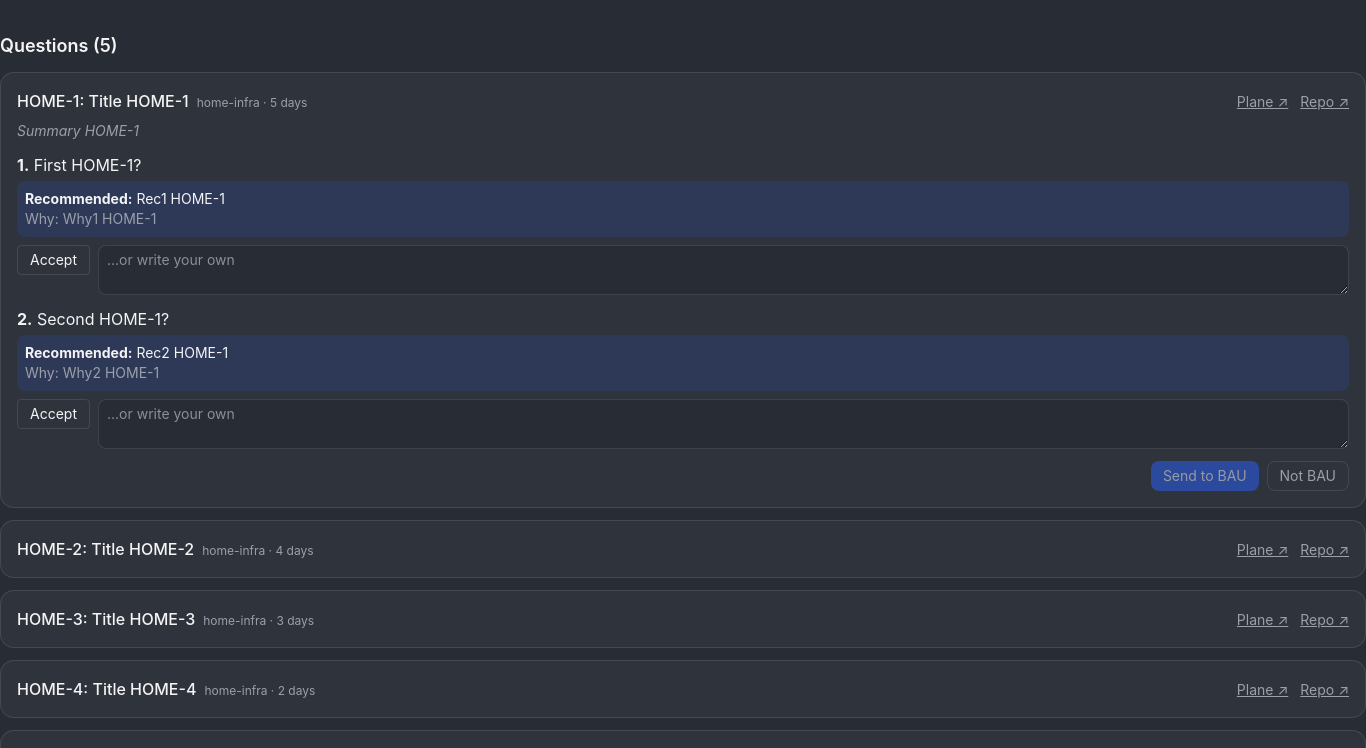
Test case: Questions › send removes the card and opens the next
Expected: the text "First HOME-2?" is not shown
What coordinates should you click on to do the following:
click the button "Accept" below "Why1 HOME-1"
I would click on:
 (54, 260)
Its box is [17,245,90,275].
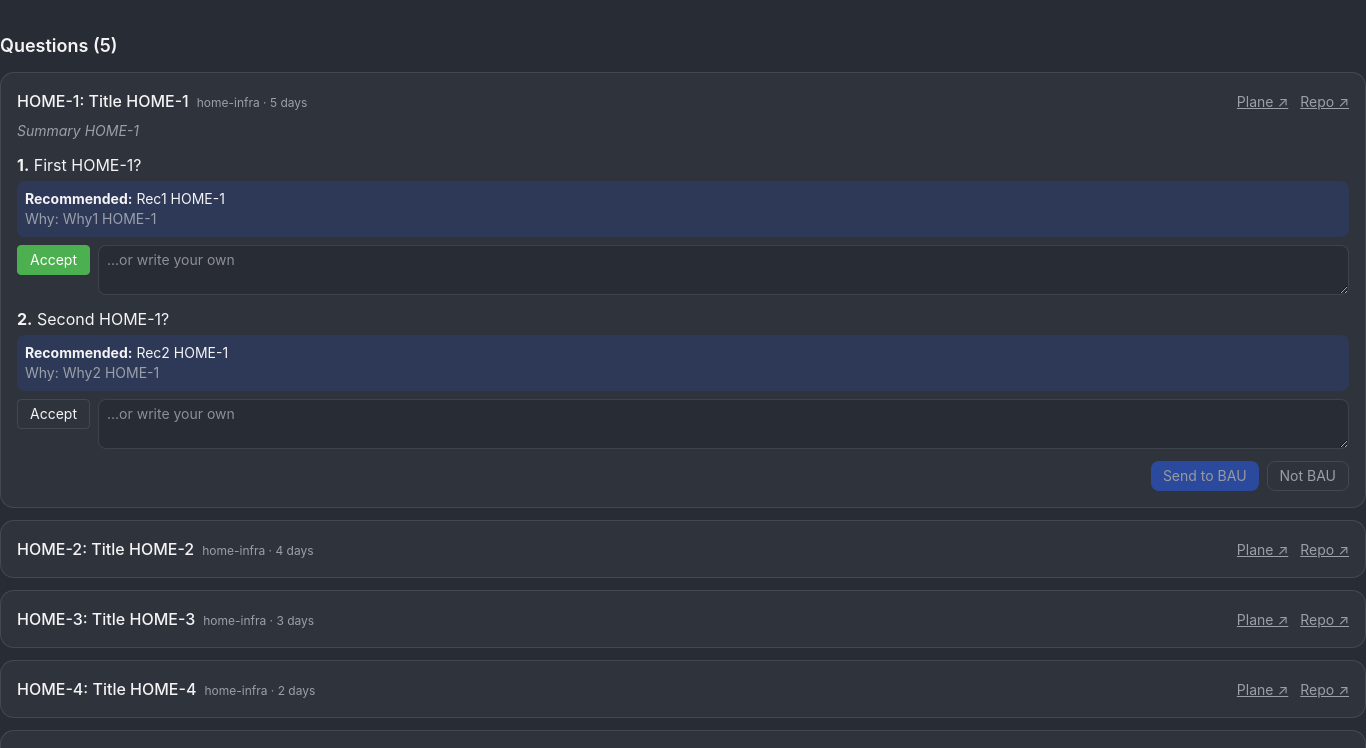
What coordinates should you click on to do the following:
click the button "Accept" below "Why2 HOME-1"
I would click on:
 (54, 414)
Its box is [17,399,90,429].
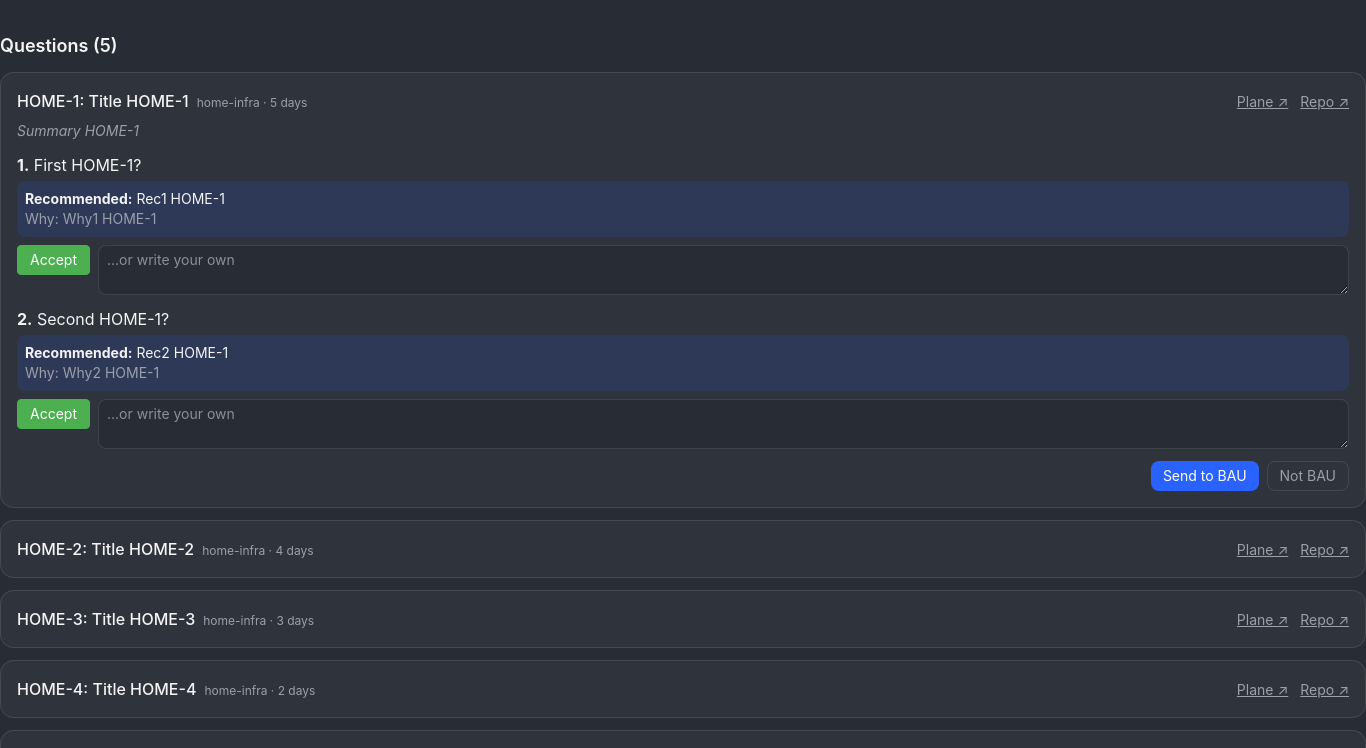
What coordinates should you click on to do the following:
click the button "Send to BAU"
I would click on:
 (1205, 476)
Its box is [1151,461,1259,491].
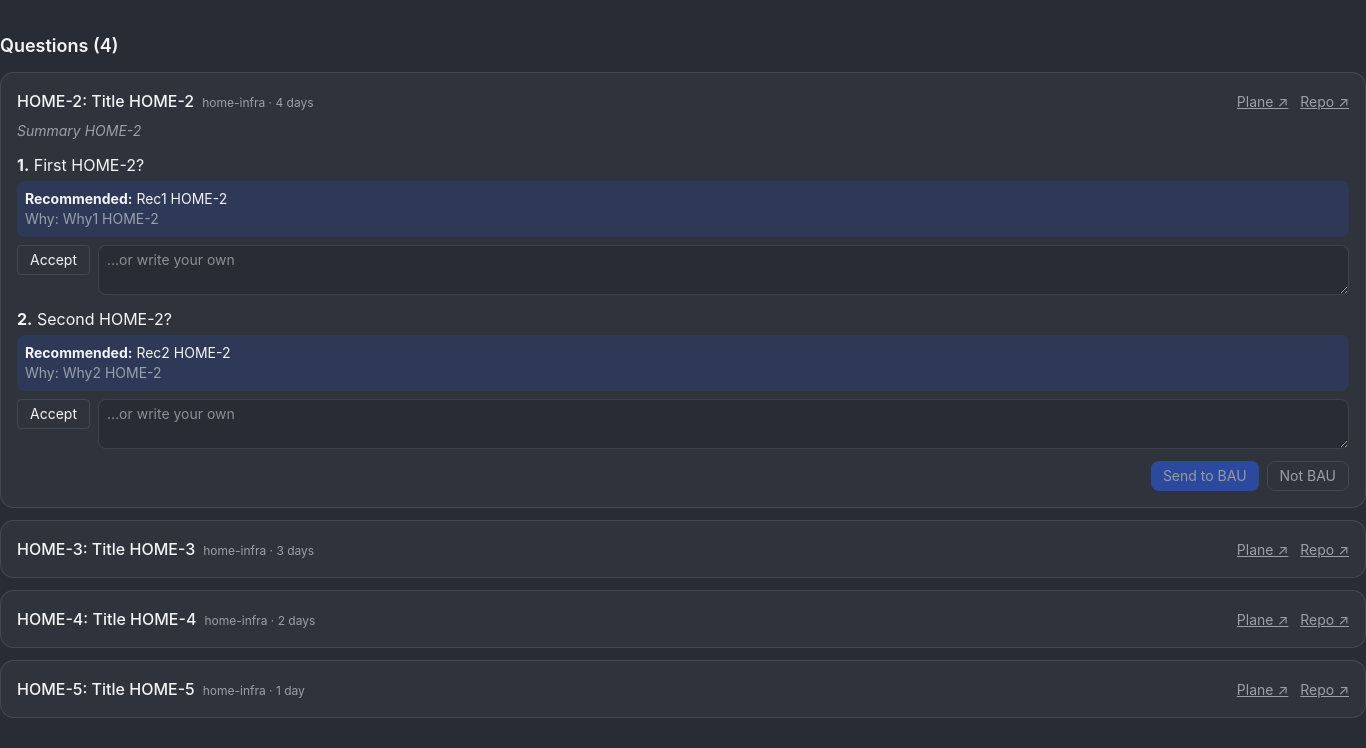
Expected: the text "First HOME-2?" is shown, [34,155,144,175]
Expected: the button "Title HOME-1" is gone
